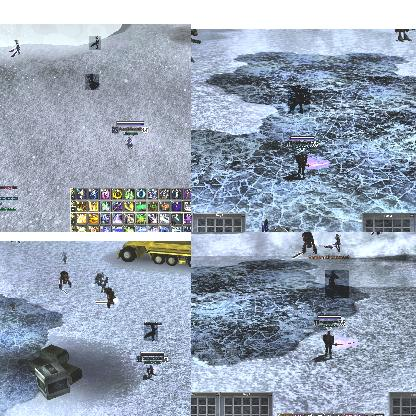caliana: (325, 270, 349, 298), (288, 85, 310, 113), (324, 232, 342, 251), (144, 323, 158, 341), (85, 74, 99, 90), (9, 40, 19, 58), (89, 36, 101, 50), (62, 251, 68, 263)
